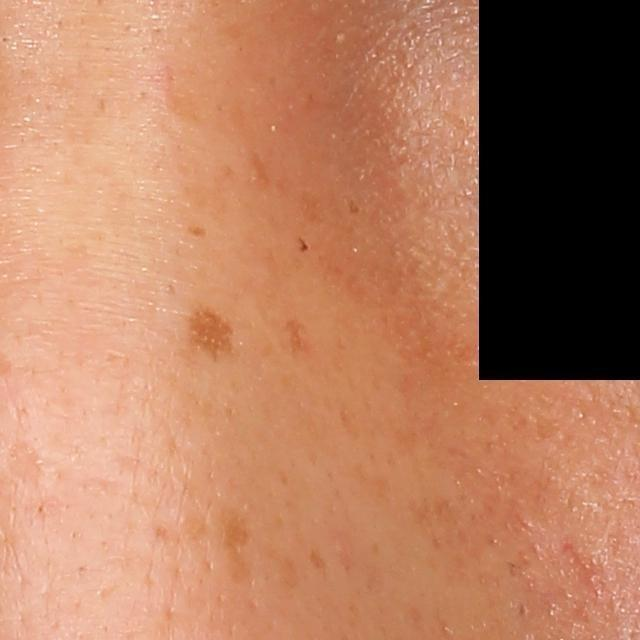atrophic_scar: (5, 438, 44, 496)
melasma: (186, 300, 237, 368), (217, 511, 254, 589), (244, 148, 272, 194), (298, 187, 327, 229), (284, 316, 312, 359), (309, 544, 333, 572), (179, 222, 212, 240), (297, 235, 311, 255), (347, 199, 362, 217)
